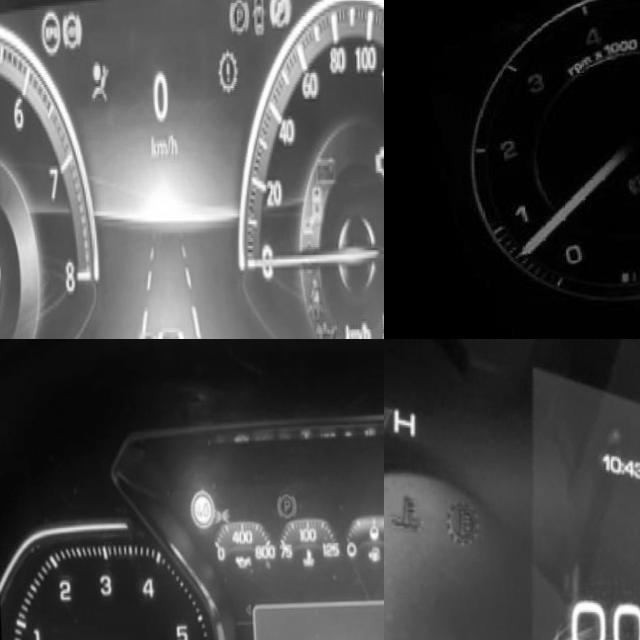High Engine Coolant Temperature: (384, 489, 427, 538)
Seat Belt: (304, 278, 324, 325)
